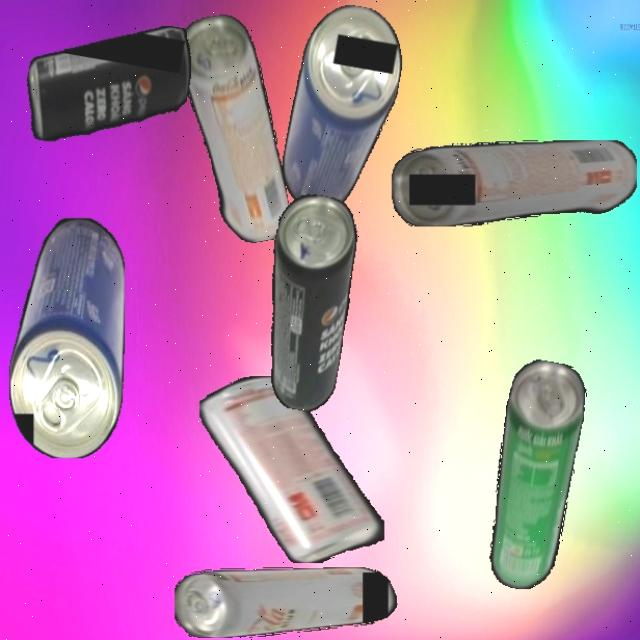debris: (200, 375, 384, 563), (275, 0, 410, 221), (175, 9, 294, 250), (18, 4, 198, 163), (8, 217, 125, 458), (476, 356, 592, 594), (247, 190, 367, 415), (392, 139, 637, 227), (175, 566, 400, 638)
